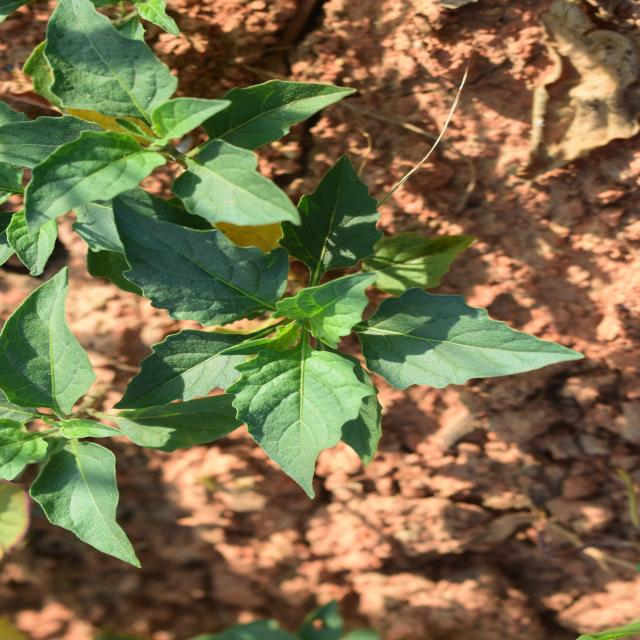Black_nightshade: (194, 137, 463, 494), (397, 0, 617, 337), (89, 0, 364, 148)
